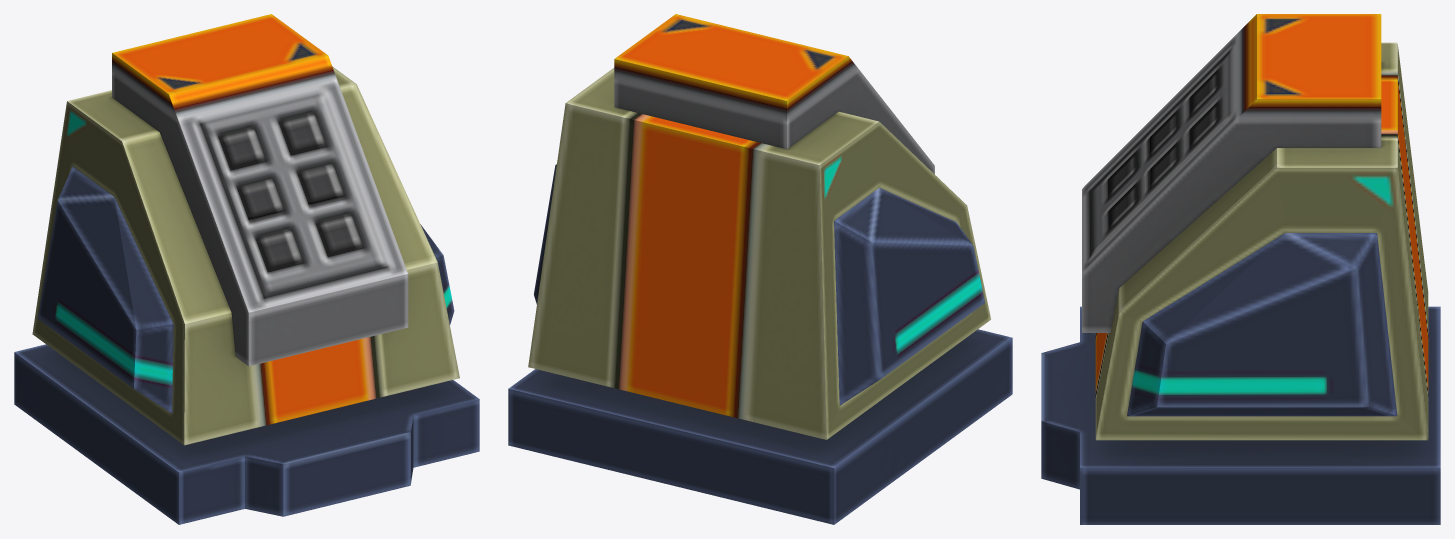
Rendered from 610005_building_BatteryAir.FBX.
The picture shows the model from 3 angles, left to right: view 1: azimuth 30°, elevation 25°; view 2: azimuth 150°, elevation 25°; view 3: azimuth 270°, elevation 25°; orthographic projection. The views are drawn at different scales.
Parts seen in each view (by area): view 1: Battery_air01, Battery_air02; view 2: Battery_air01, Battery_air02; view 3: Battery_air01, Battery_air02.
Part boxes in pixels (x1=…): Battery_air01: x1=32, y1=14, x2=459, y2=445; Battery_air02: x1=14, y1=344, x2=479, y2=524; Battery_air01: x1=528, y1=14, x2=990, y2=439; Battery_air02: x1=508, y1=329, x2=1012, y2=524; Battery_air01: x1=1082, y1=14, x2=1428, y2=440; Battery_air02: x1=1041, y1=306, x2=1440, y2=524.
Bounding box in the file's own units: 111 × 117 × 109.
